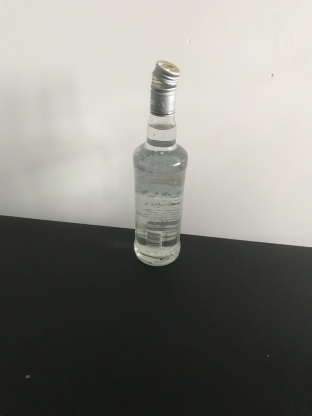nakretka: (148, 58, 181, 117)
